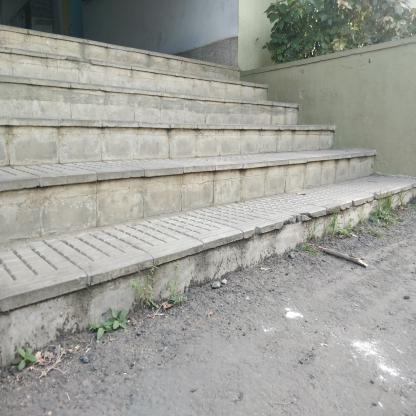stairs: (18, 100, 315, 347)
